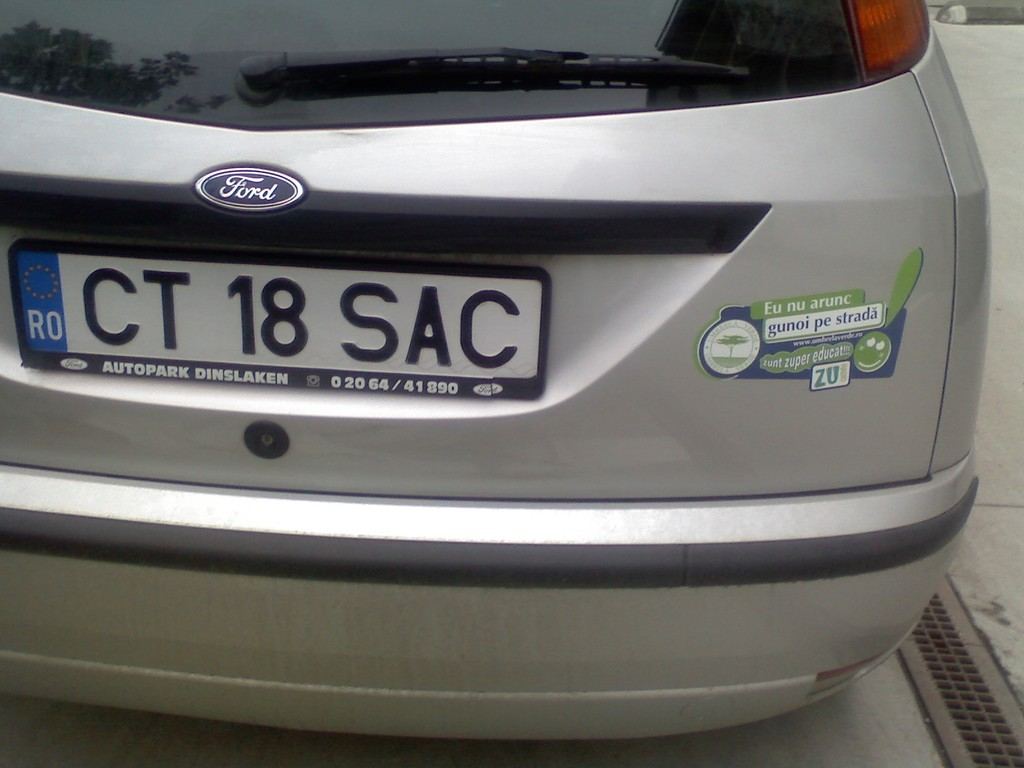license plate: (20, 249, 552, 363)
